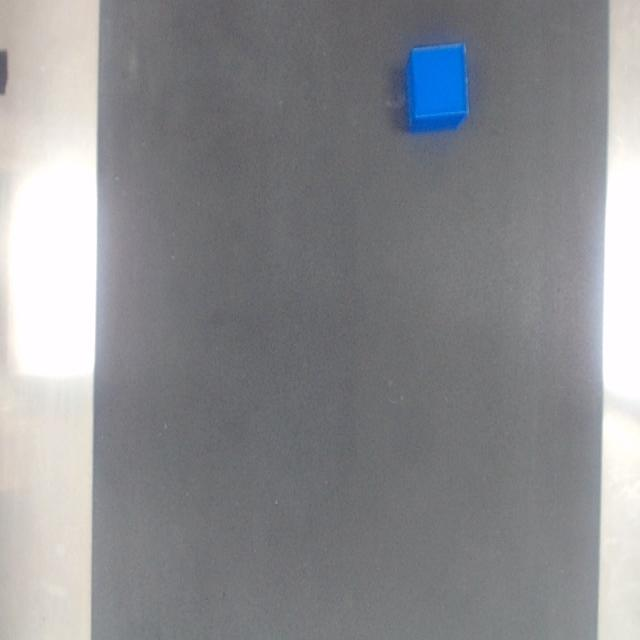Azul: (406, 43, 468, 132)
